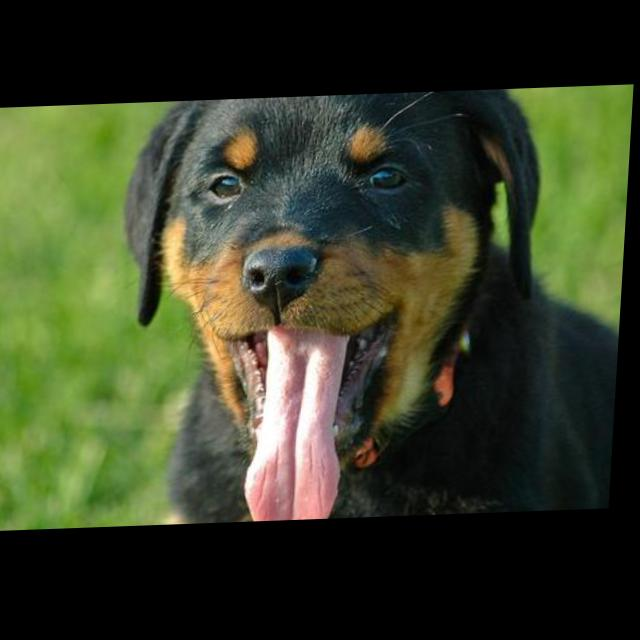rottweiler: (111, 90, 635, 529)
